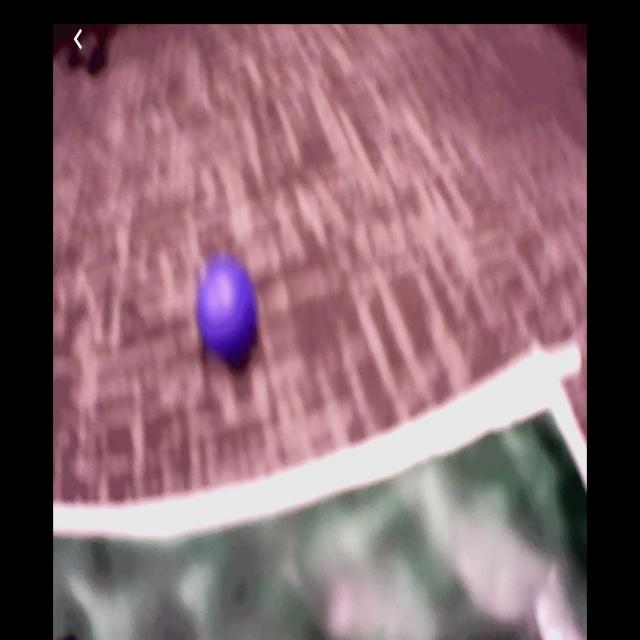ball: (199, 261, 255, 359)
